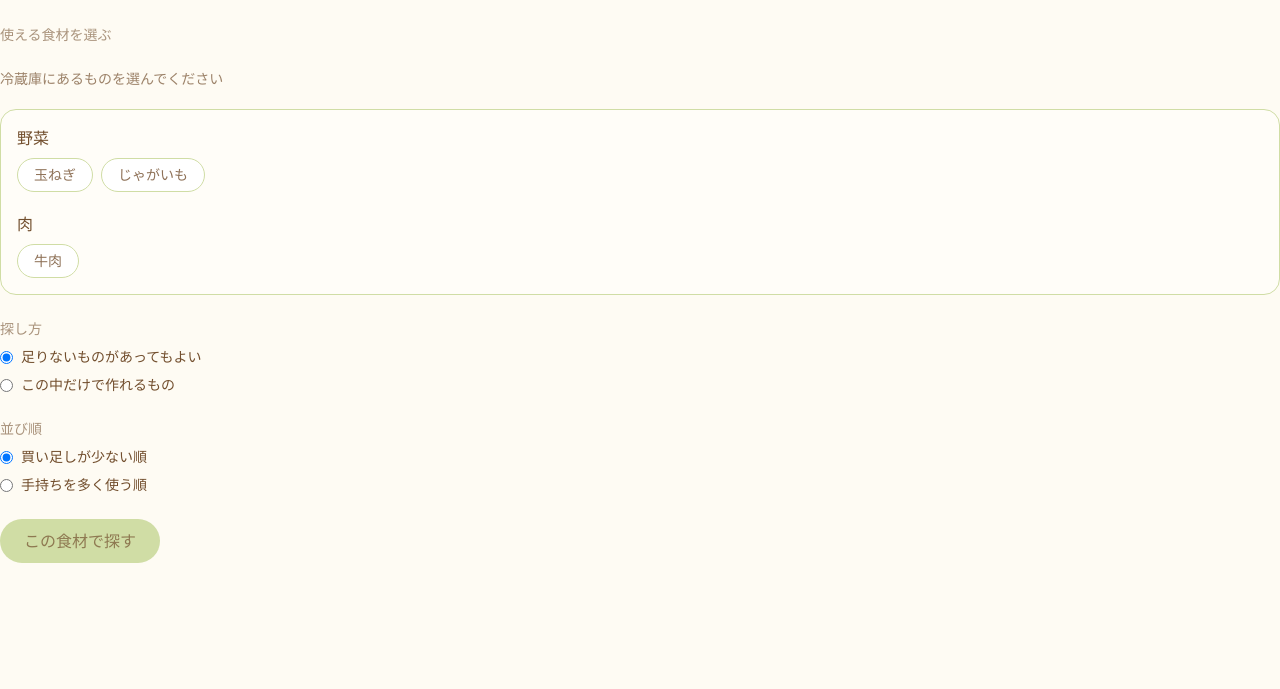
冷蔵庫から探す › 見つからなければ、食材を増やすよう促す
Click the checkbox labelled "玉ねぎ" at (55, 175), box [17,158,93,192]
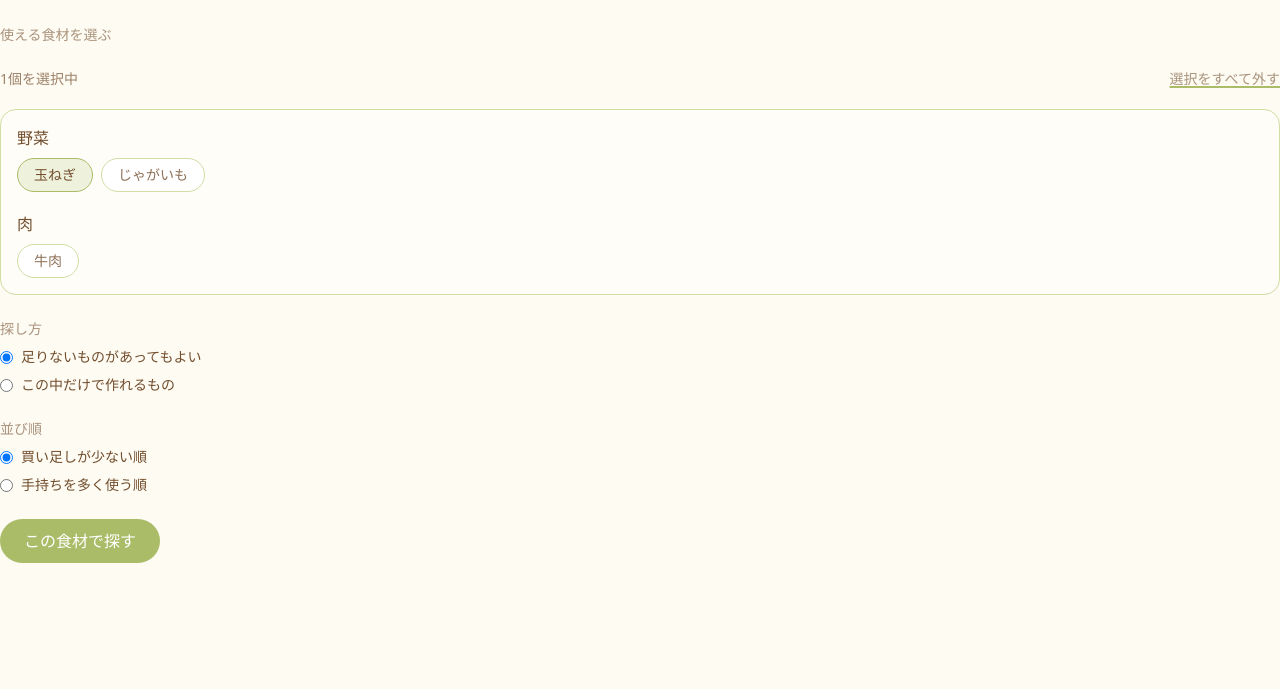
Click the button "この食材で探す" at (80, 541), box [0,519,160,563]
(page scrolled)
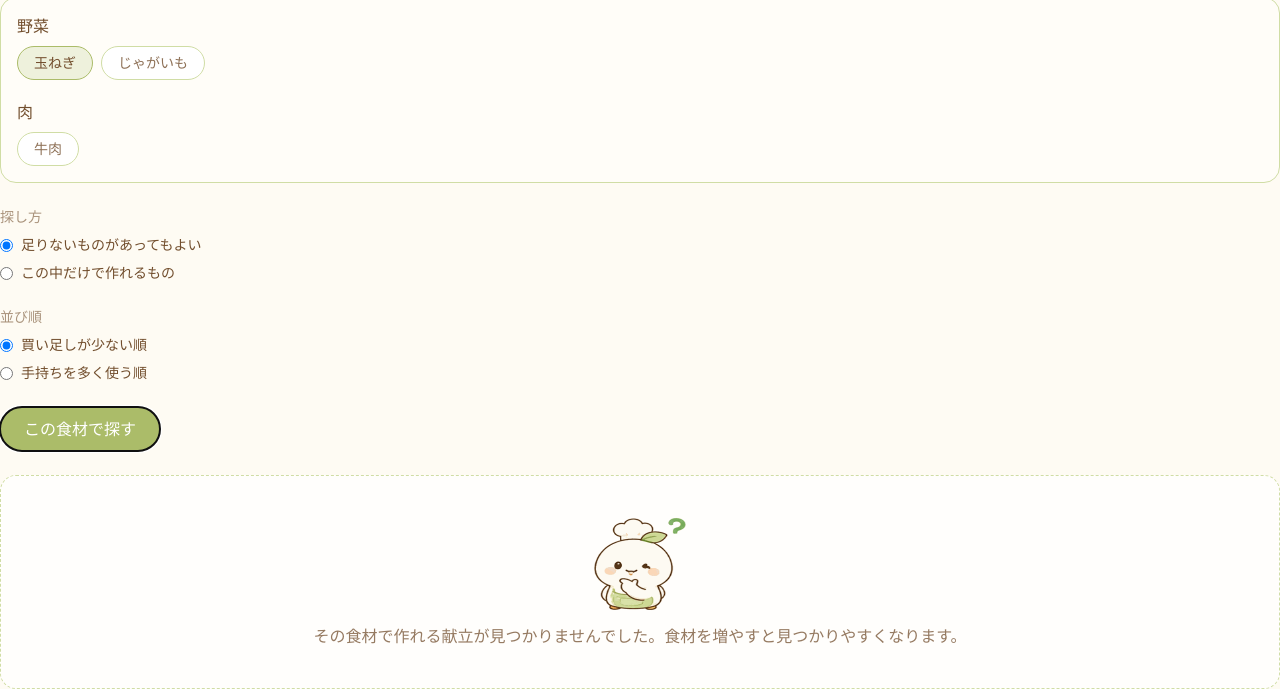
Check: the text "その食材で作れる献立が見つかりませんでした。食材を増やすと見つかりやすくなります。" is shown, box [313,624,966,648]
